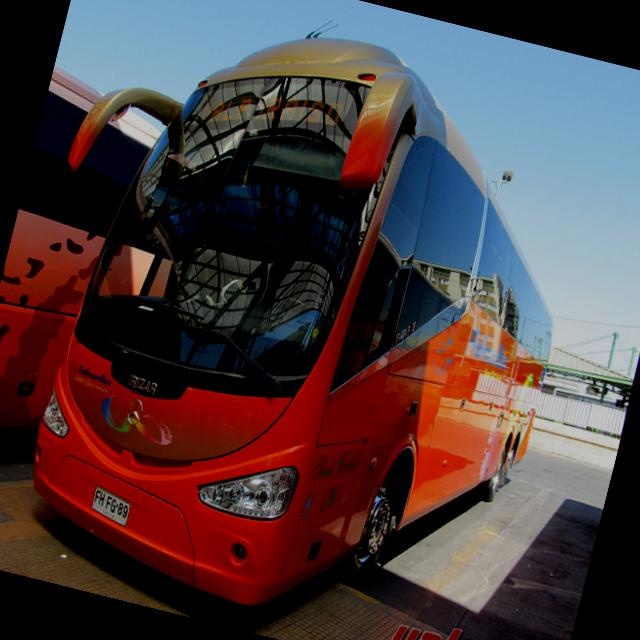Vehicle: (0, 0, 612, 640), (0, 63, 173, 476), (585, 179, 640, 562)
